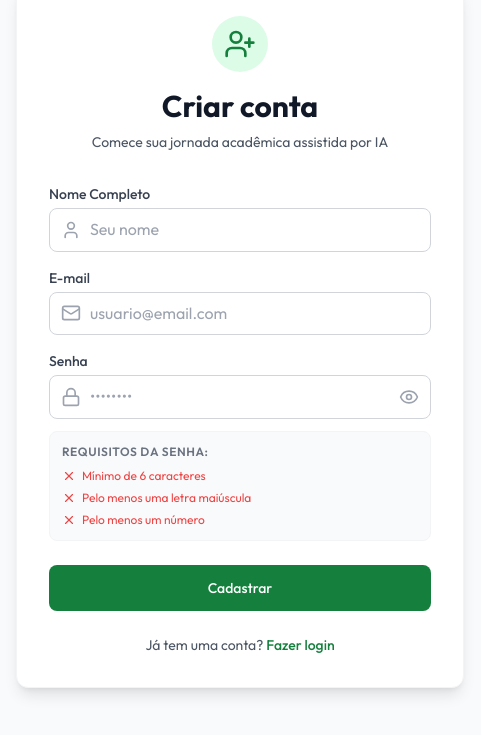
Scenario: Register validation › rejects a name shorter than 2 characters
Type "A" into the field labelled "Nome Completo" at (240, 230), box [49,208,431,252]
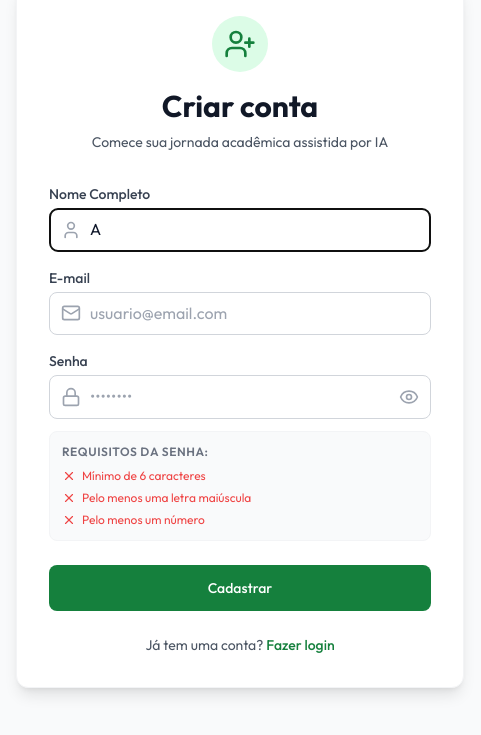
Type "a@a.com" into the field labelled "E-mail" at (240, 313), box [49,292,431,335]
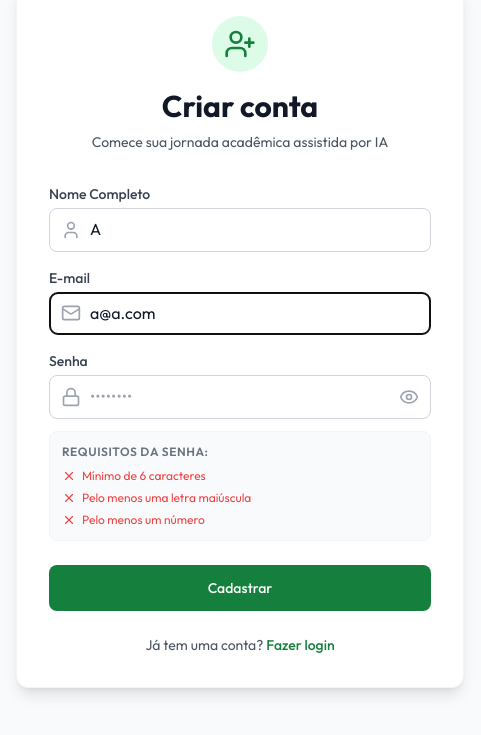
Type "Abcdef1" into the password field labelled "Senha" at (240, 397), box [49,375,431,419]
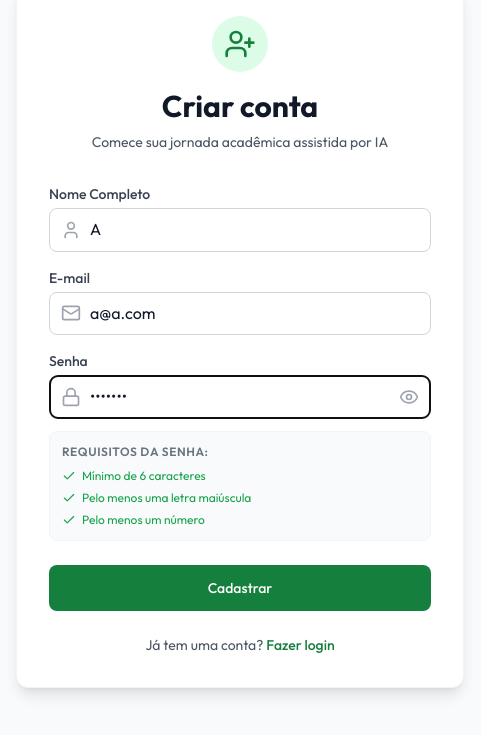
Click the button "Cadastrar" at (240, 588), box [49,565,431,611]
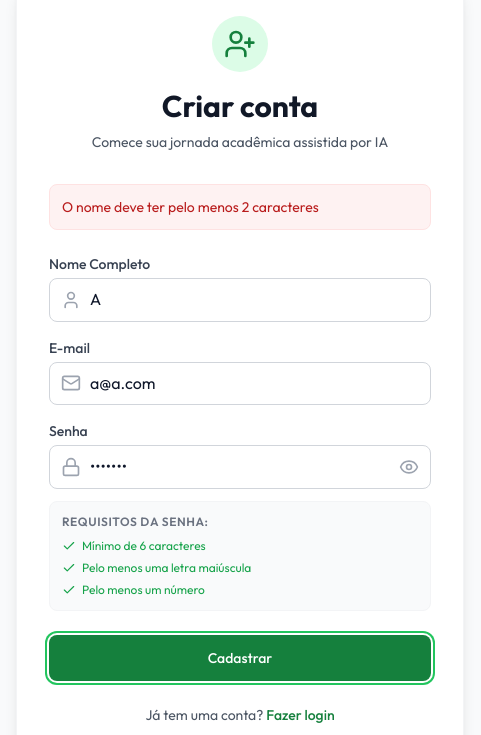
Expected: the text "O nome deve ter pelo menos 2 caracteres" is shown, [49,184,431,230]
